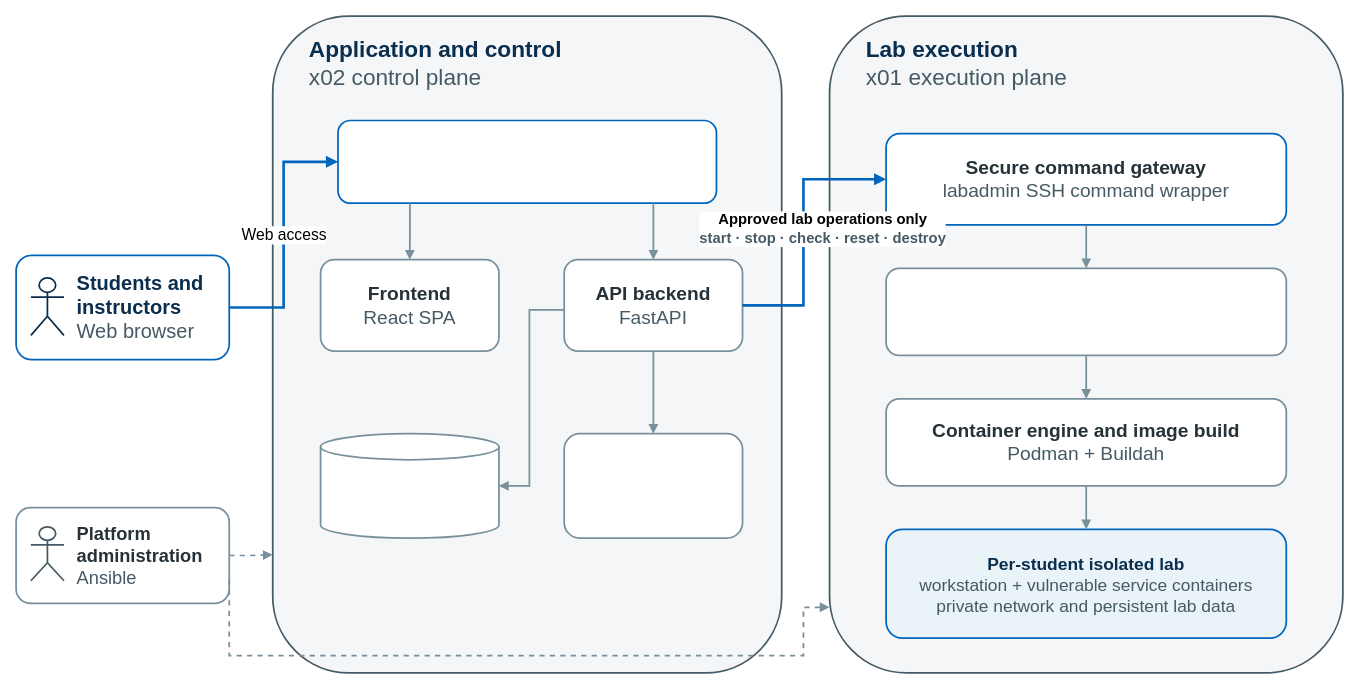
This 1358x688 diagram has some shape labels left out. Each missing label, with the centre of its shape:
Application data SQLite: [409,485]
Guides and timed automation MkDocs + scheduler: [653,485]
Lab lifecycle manager labctl command-line tool: [1086,311]
Web gateway Nginx: [527,161]
